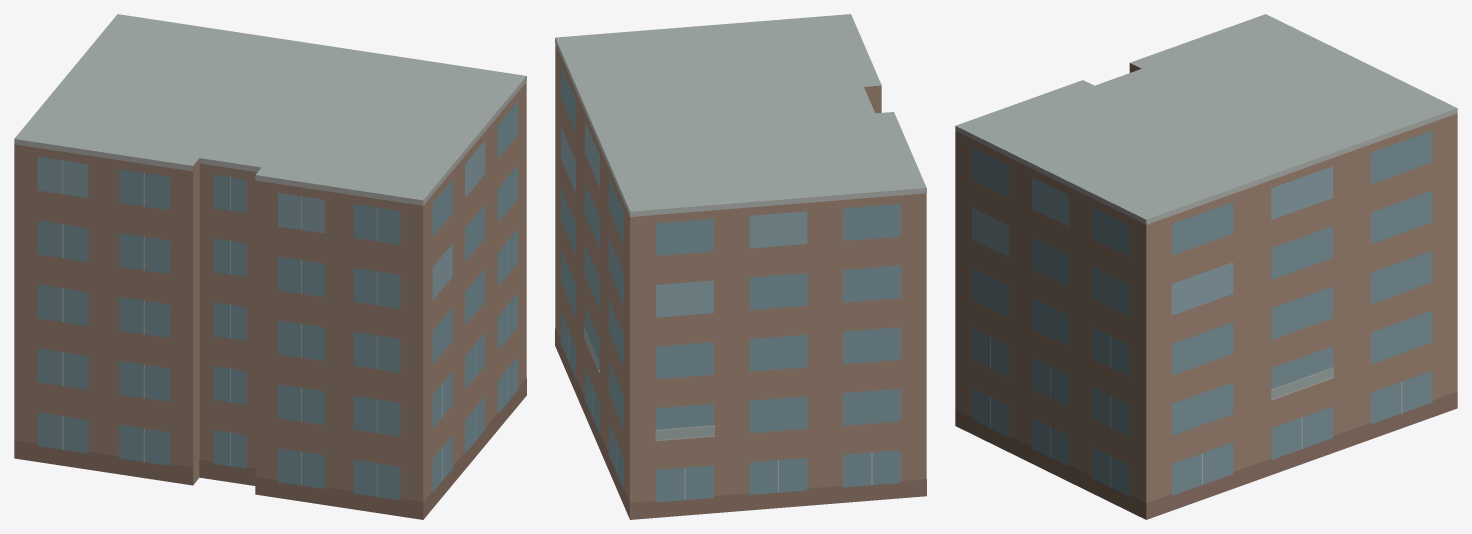
The model's file is survey-upis-32638489.glb.
3 renders of one model, left to right at view 1: azimuth 30°, elevation 25°; view 2: azimuth 150°, elevation 25°; view 3: azimuth 270°, elevation 25°, orthographic. The views are drawn at different scales.
Visible parts, largest first — view 1: survey-upis-32638489.tmp; view 2: survey-upis-32638489.tmp; view 3: survey-upis-32638489.tmp.
Boxes of the visible parts, x1,y1,x2,y2 form: survey-upis-32638489.tmp: [14, 14, 526, 519]; survey-upis-32638489.tmp: [555, 14, 926, 519]; survey-upis-32638489.tmp: [955, 14, 1457, 519].
Bounding box in the file's own units: 21.04 × 14.3 × 21.7.
